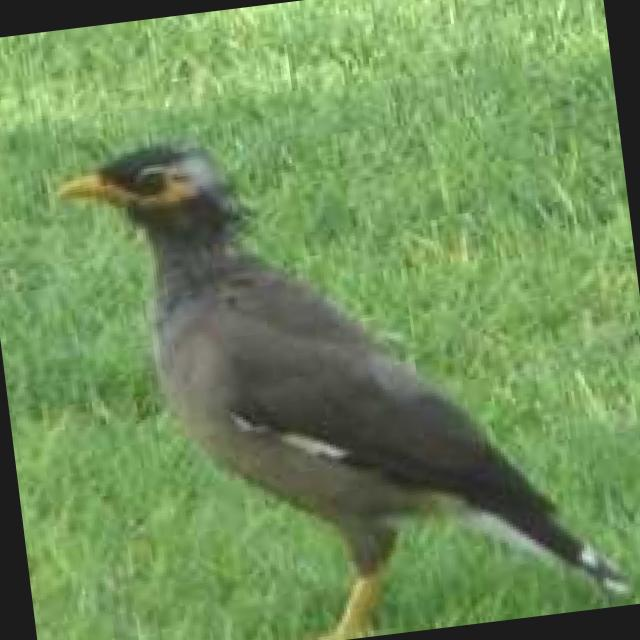bird: (49, 82, 639, 640)
